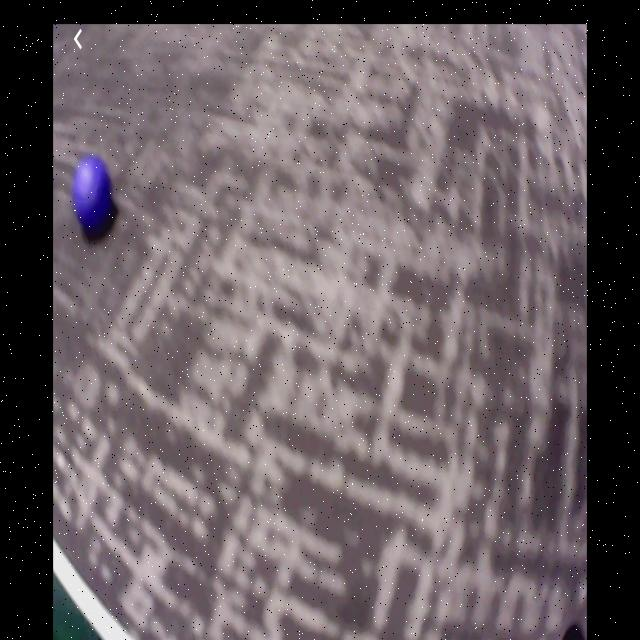ball: (70, 156, 115, 230)
